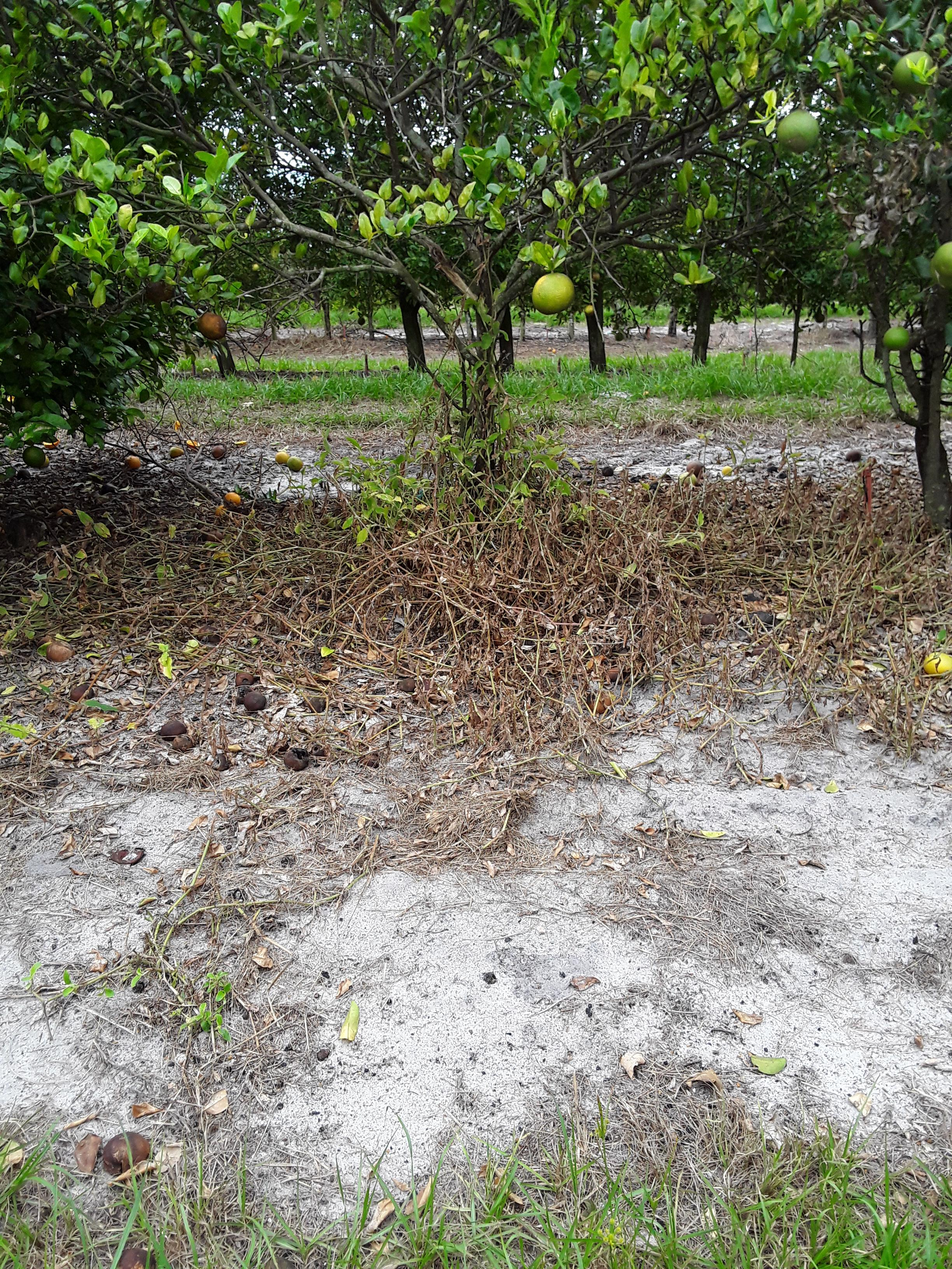fruit_on_ground: (886, 44, 942, 93), (772, 108, 829, 155), (526, 271, 580, 319), (882, 324, 920, 355), (924, 237, 952, 273), (846, 234, 874, 266), (197, 310, 224, 341), (644, 23, 670, 48), (930, 266, 952, 293)
fruit_on_tree: (105, 1129, 149, 1178), (114, 1241, 165, 1269), (919, 644, 952, 686), (584, 683, 612, 718), (154, 715, 192, 740), (44, 637, 73, 668), (239, 685, 271, 713), (284, 746, 314, 775), (306, 687, 333, 718), (22, 442, 49, 472), (233, 664, 262, 690), (168, 733, 203, 754), (66, 682, 100, 703), (700, 608, 724, 631), (596, 456, 618, 481), (750, 605, 771, 630), (684, 456, 707, 478), (600, 664, 627, 682), (840, 445, 863, 466), (287, 453, 306, 477), (209, 441, 227, 465), (718, 460, 737, 482), (269, 447, 287, 470), (170, 443, 190, 463), (397, 673, 415, 695), (54, 503, 73, 523), (125, 453, 142, 474), (718, 460, 735, 481), (225, 493, 241, 511), (765, 462, 779, 476), (777, 469, 789, 480)
